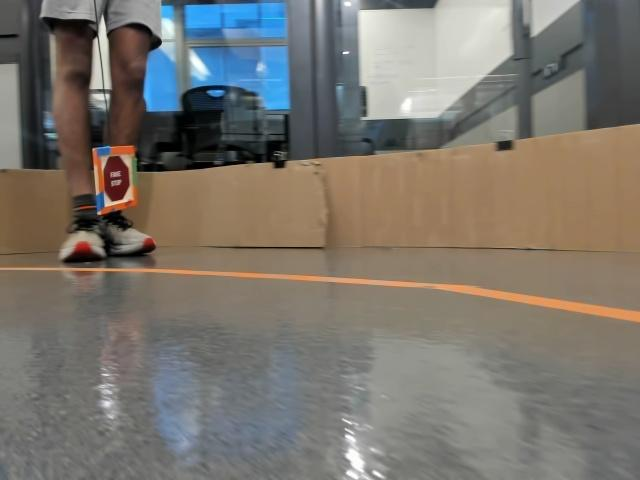Fake Stop: (102, 157, 128, 202)
